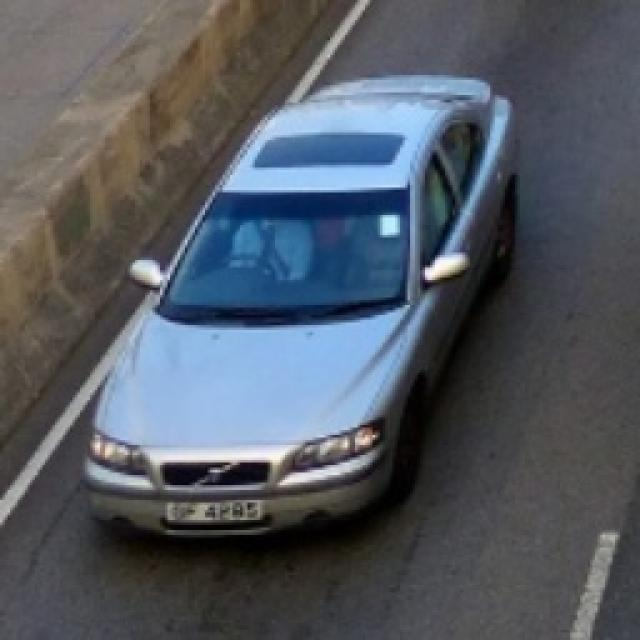windshield: (150, 171, 414, 341)
